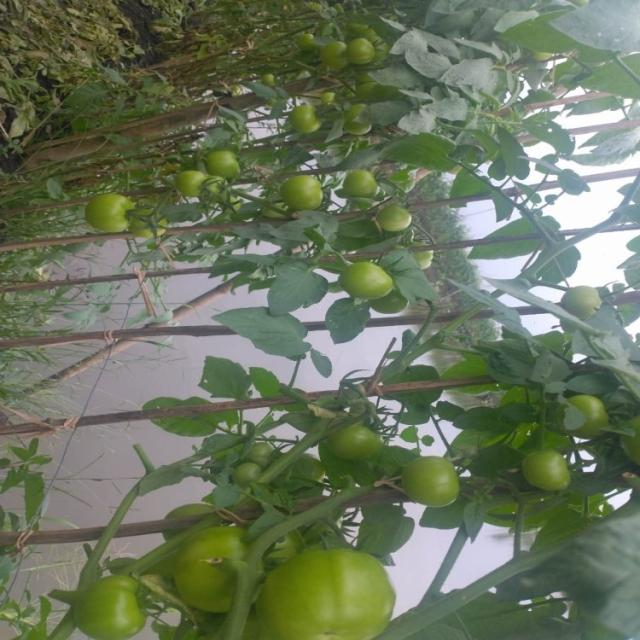tomato: (241, 537, 410, 640), (172, 521, 282, 607), (71, 565, 157, 634), (399, 449, 472, 518), (319, 415, 382, 476), (332, 252, 397, 304), (520, 447, 588, 494), (172, 162, 229, 212), (339, 167, 397, 215), (81, 195, 140, 240), (271, 169, 328, 213), (122, 196, 176, 242), (566, 386, 607, 445), (283, 90, 328, 135), (554, 277, 599, 319), (375, 201, 420, 240), (348, 29, 392, 66), (314, 31, 356, 65), (203, 149, 248, 180), (342, 101, 370, 139), (226, 462, 257, 493), (248, 437, 280, 462)
